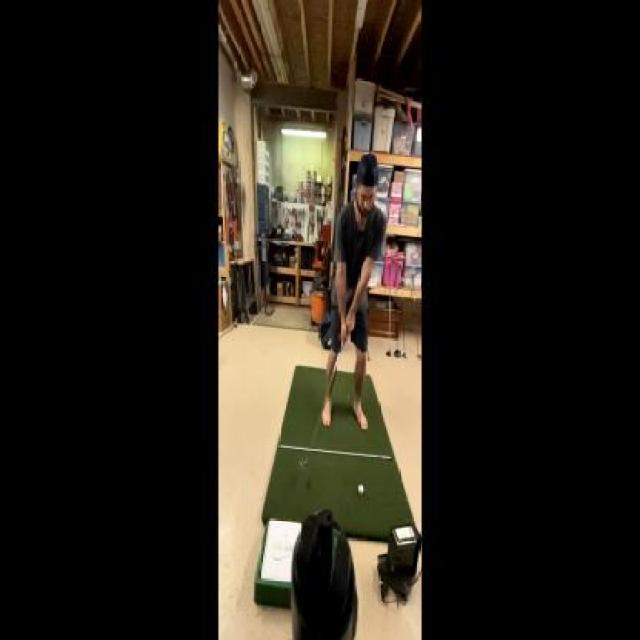club head: (297, 453, 311, 473)
